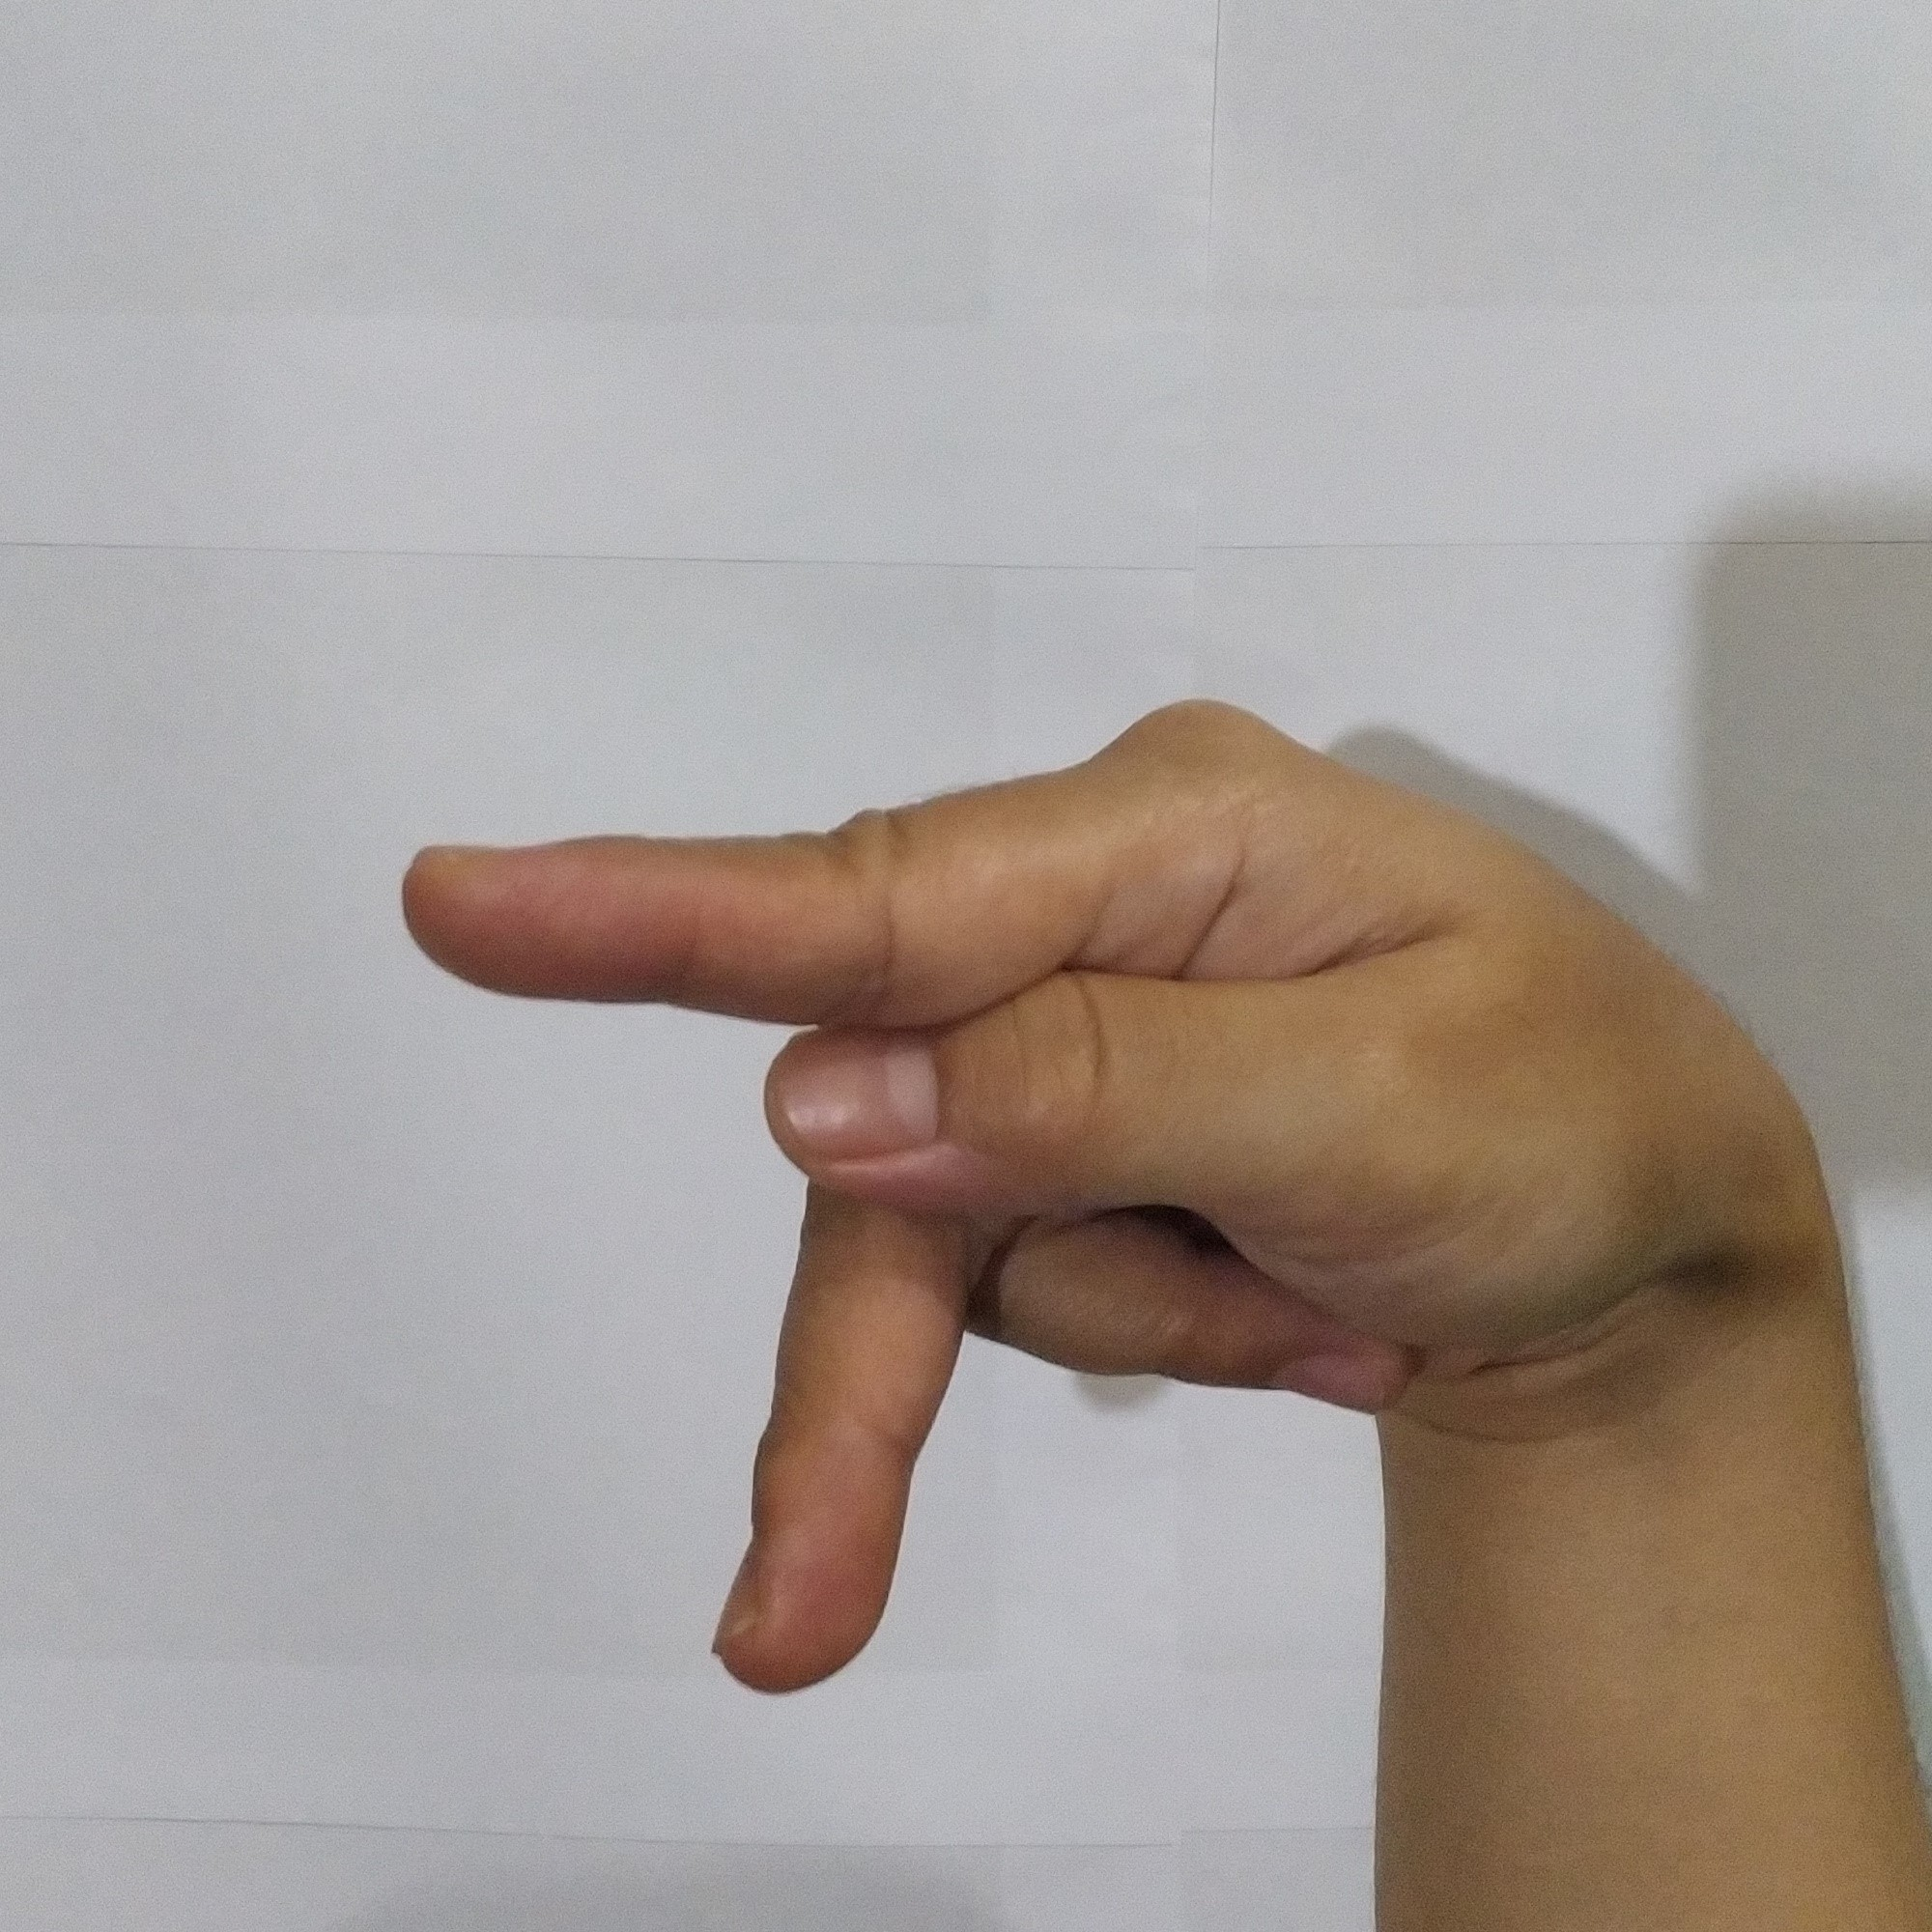P: (373, 669, 1897, 1716)
